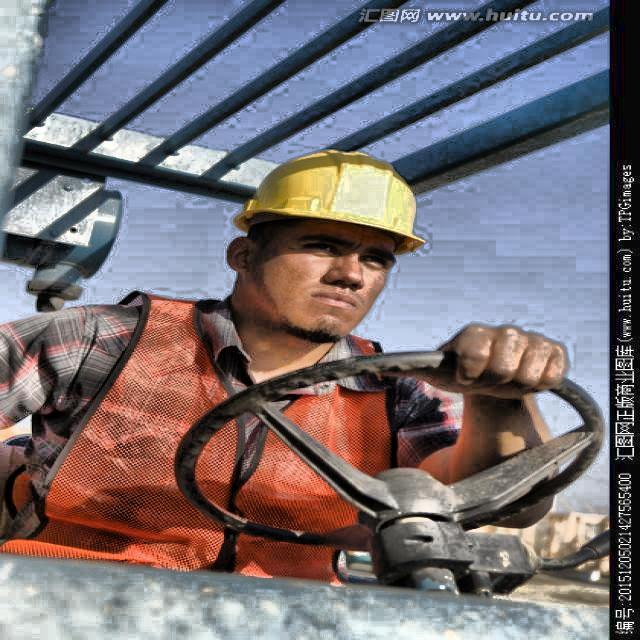person: (44, 144, 506, 598)
